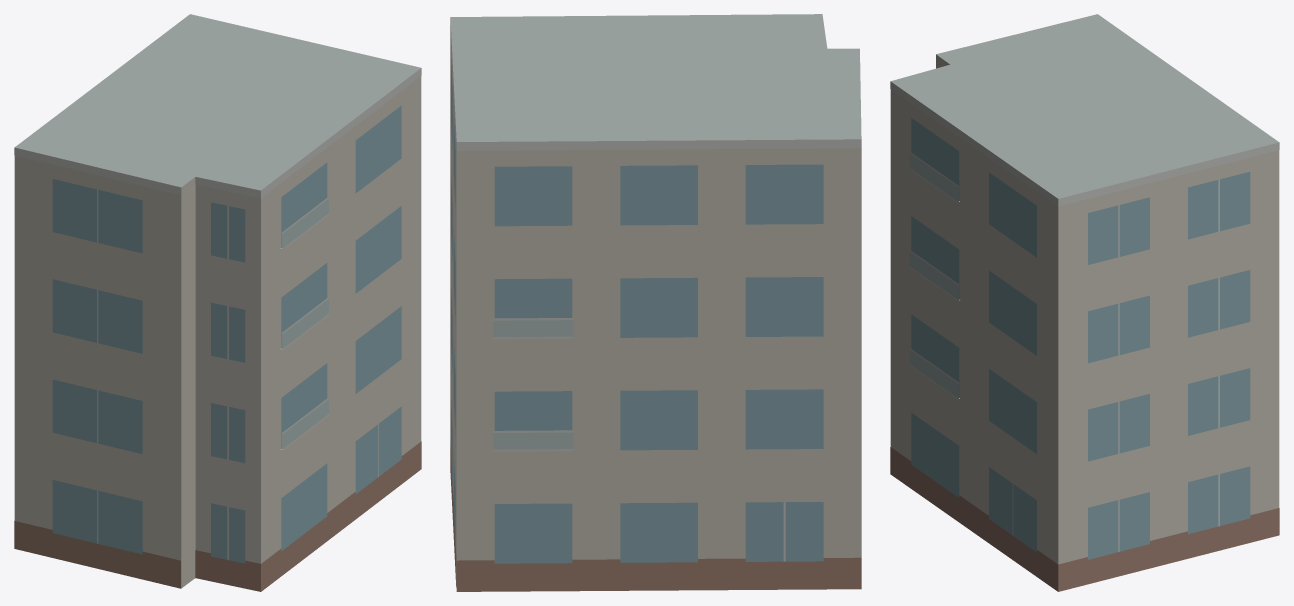
Rendered from survey-upis-32646874.glb.
3 views of the same model, side by side, from view 1: azimuth 30°, elevation 25°; view 2: azimuth 150°, elevation 25°; view 3: azimuth 270°, elevation 25° (orthographic). The views are drawn at different scales.
Parts seen in each view (by area): view 1: survey-upis-32646874.tmp; view 2: survey-upis-32646874.tmp; view 3: survey-upis-32646874.tmp.
Part boxes in pixels (x1,y1,x2,y2): survey-upis-32646874.tmp: (14,14,421,591); survey-upis-32646874.tmp: (450,14,861,591); survey-upis-32646874.tmp: (890,14,1279,591).
Size of the model in its own units: 12.54 by 12.42 by 11.15.
